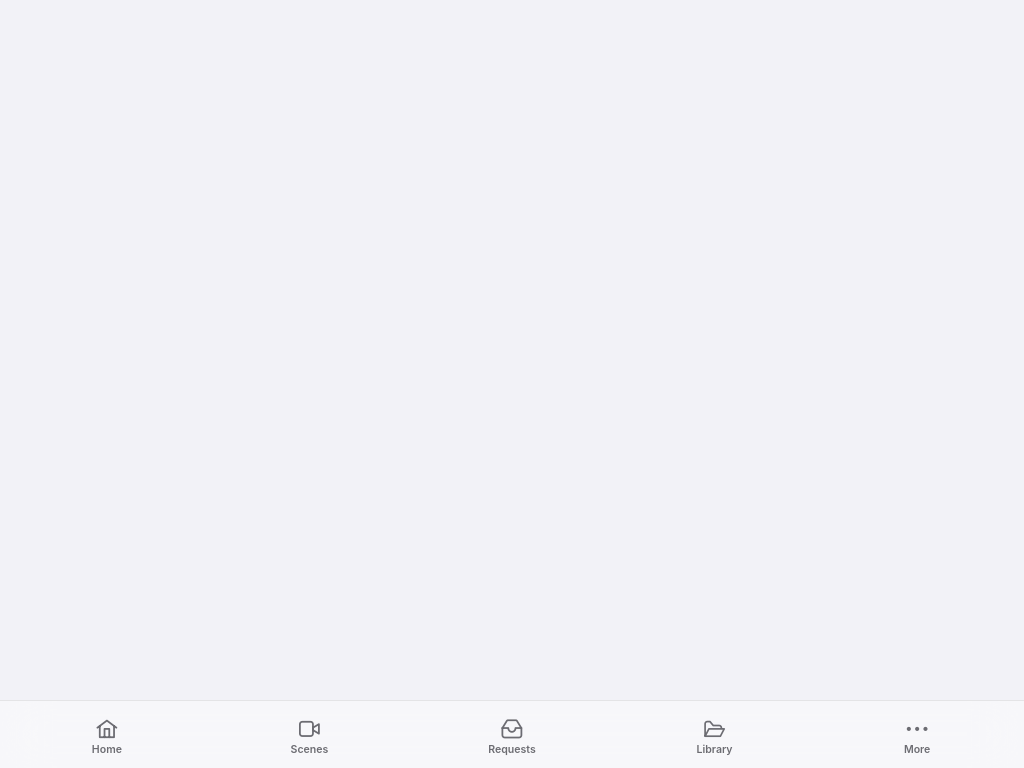
it: AppShellLayoutComponent › renders a bottom navigation on phones and exposes secondary destinations from More
Check: the navigation bar with test id "mobile-bottom-nav" is shown, box [0,700,1023,767]
What coordinates should you click on to do the following:
click the button with class "mobile-nav-item" showing "More"
I would click on:
 (917, 736)
Its box is [816,704,1018,767].
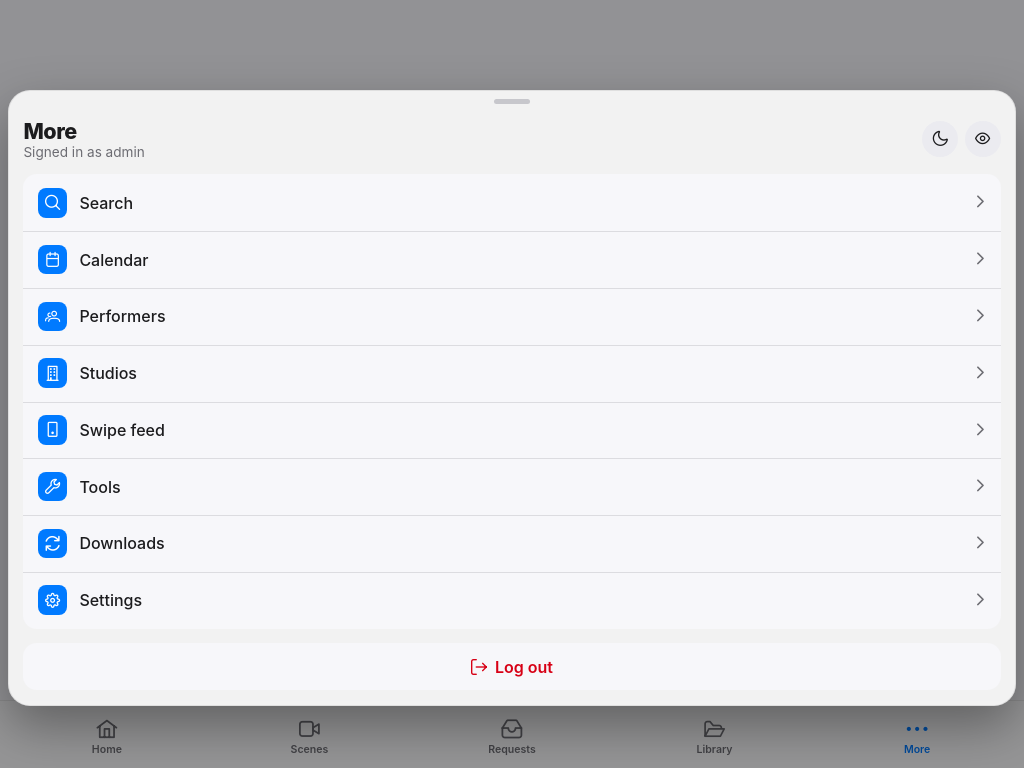
Check: the element with test id "mobile-more-sheet" is shown
Check: the element with test id "mobile-more-sheet" shows "Search", box [23,174,1001,231]
Check: the element with test id "mobile-more-sheet" shows "Downloads", box [23,515,1001,572]
